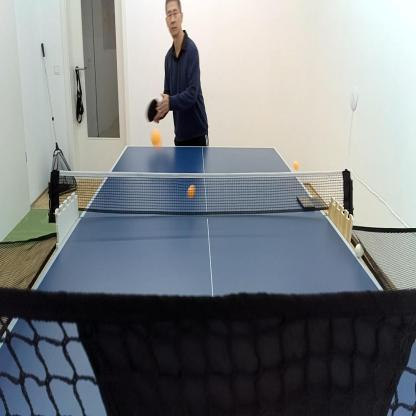Ball: (151, 130, 161, 148), (356, 244, 363, 258), (188, 186, 195, 198), (294, 161, 298, 170)
